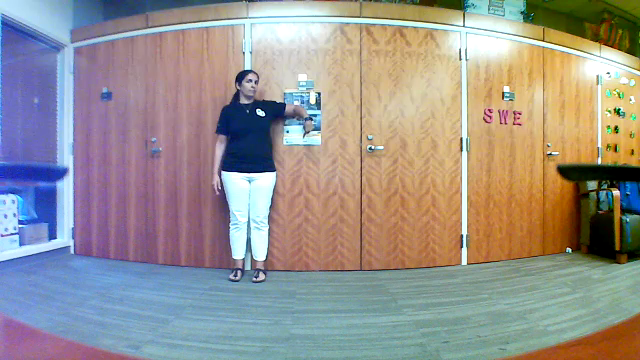down: (298, 116, 317, 141)
